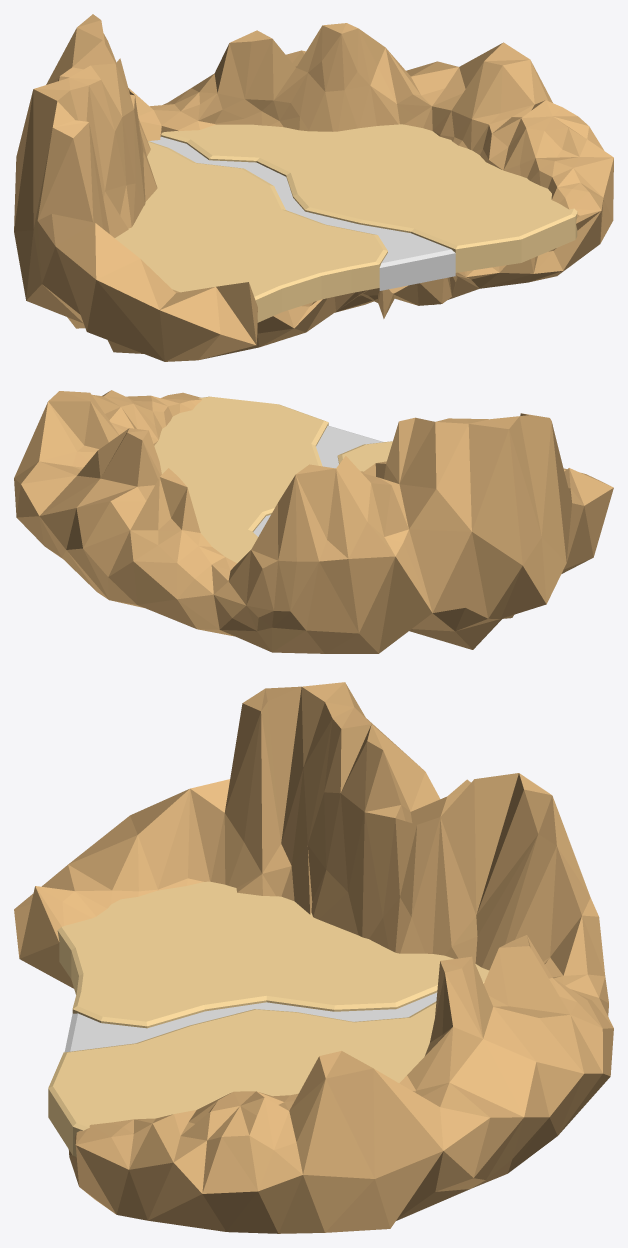
Rendered from new_flate_scene .fbx.
3 views of the same model, one above another, from view 1: azimuth 30°, elevation 25°; view 2: azimuth 150°, elevation 25°; view 3: azimuth 270°, elevation 25° (orthographic). The views are drawn at different scales.
Visible parts, largest first — view 1: mountain_river, new_ground, new_river; view 2: mountain_river, new_ground, new_river; view 3: mountain_river, new_ground, new_river.
Boxes of the visible parts, x1,y1,x2,y2 form: mountain_river: (14,14,613,361); new_ground: (115,124,577,322); new_river: (149,136,455,290); mountain_river: (14,390,613,653); new_ground: (154,396,392,563); new_river: (253,425,383,536); mountain_river: (14,682,613,1233); new_ground: (48,881,489,1156); new_river: (64,992,437,1052).
Size of the model in its own units: 2301 by 984 by 1757.
